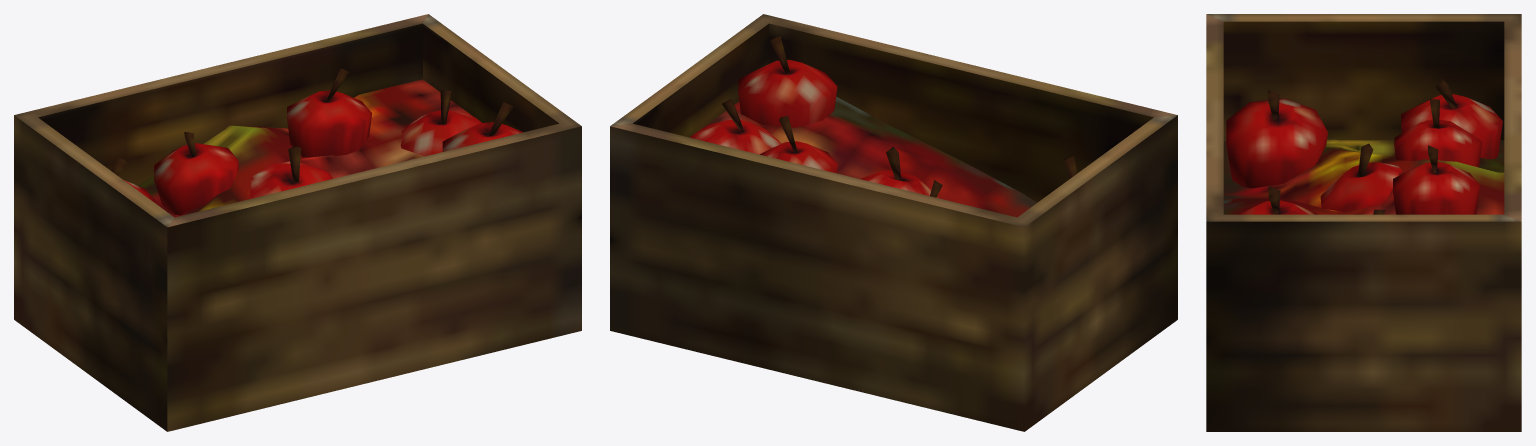
The model's file is b_general_obj_22.glb.
The picture shows the model from 3 angles, left to right: view 1: azimuth 30°, elevation 25°; view 2: azimuth 150°, elevation 25°; view 3: azimuth 270°, elevation 25°; orthographic projection. The views are drawn at different scales.
Parts seen in each view (by area): view 1: Sphere01; view 2: Sphere01; view 3: Sphere01.
Boxes of the visible parts, left/top/right/bottom form: Sphere01: left=14, top=14, right=581, bottom=431; Sphere01: left=610, top=14, right=1177, bottom=431; Sphere01: left=1206, top=14, right=1521, bottom=431.
Size of the model in its own units: 1.06 by 0.5309 by 0.6822.
1 material, 1 textured.
